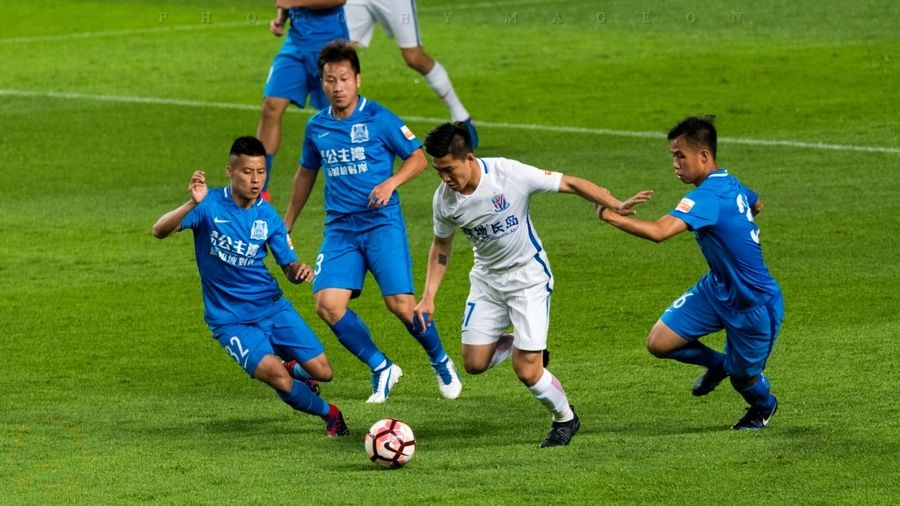football: (364, 419, 417, 468)
